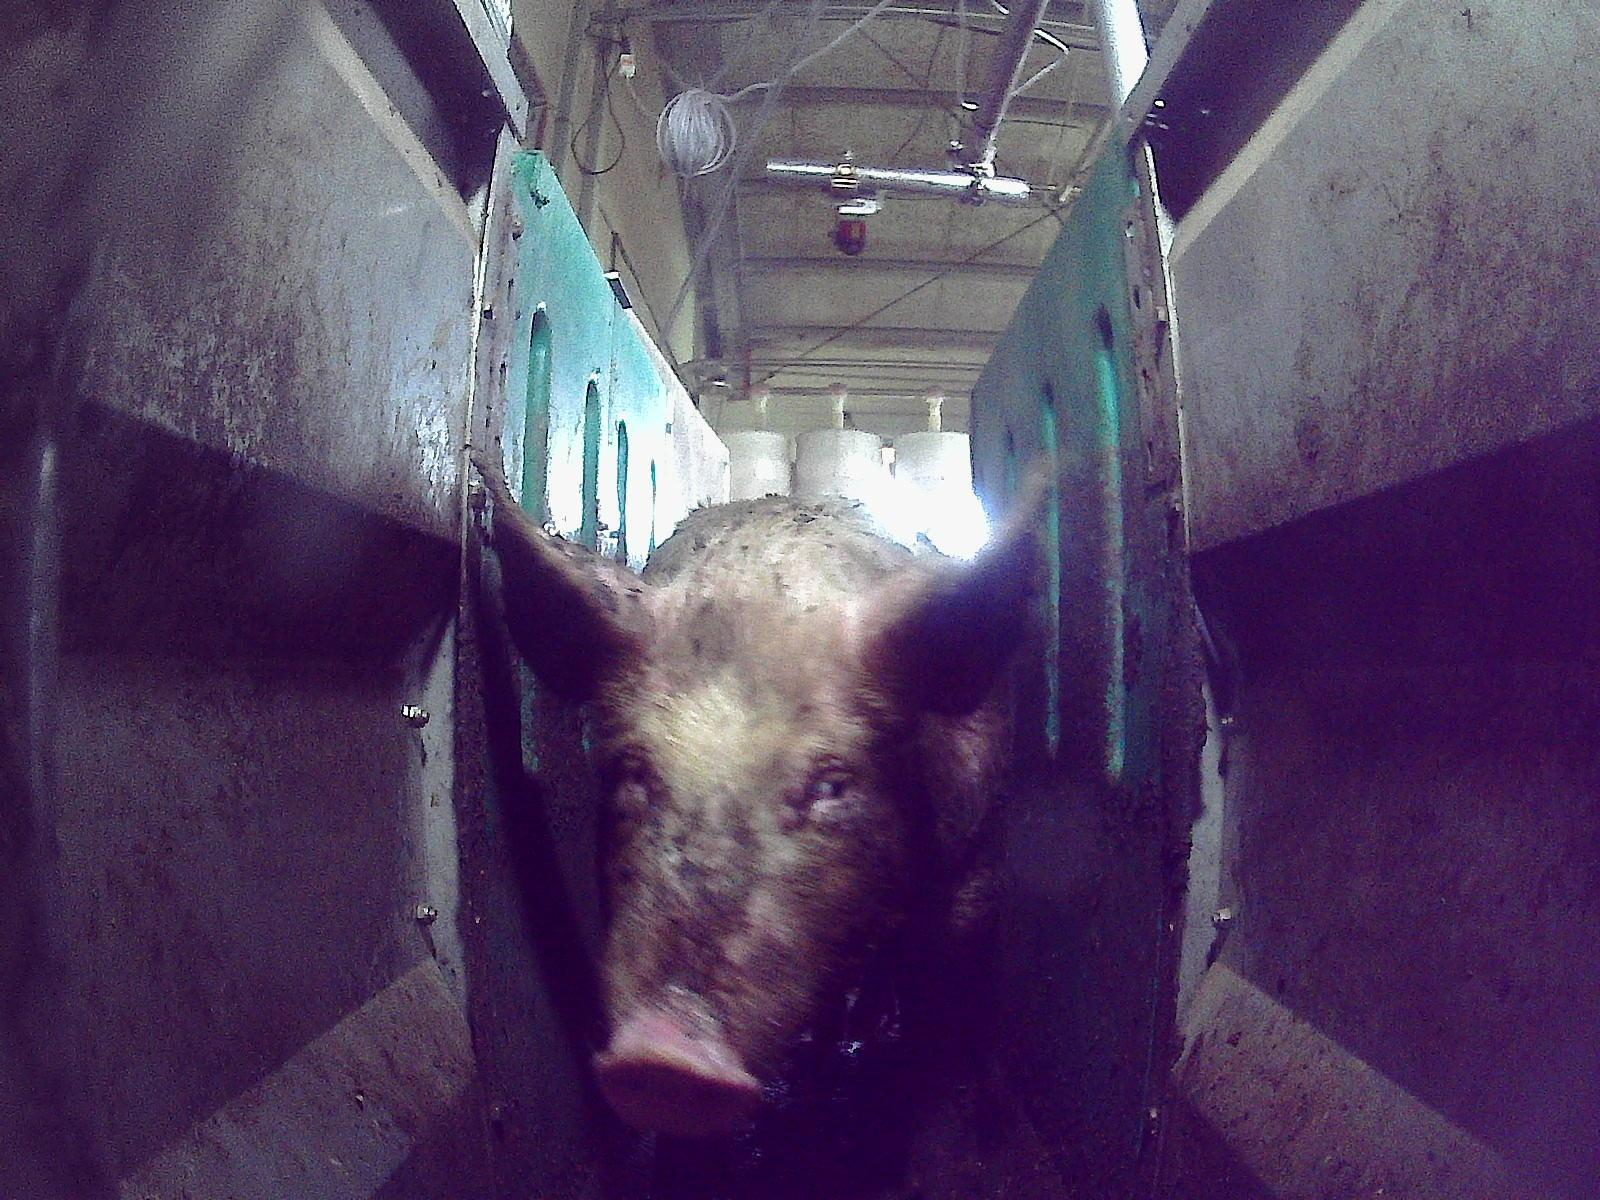Face: (574, 638, 917, 1139)
